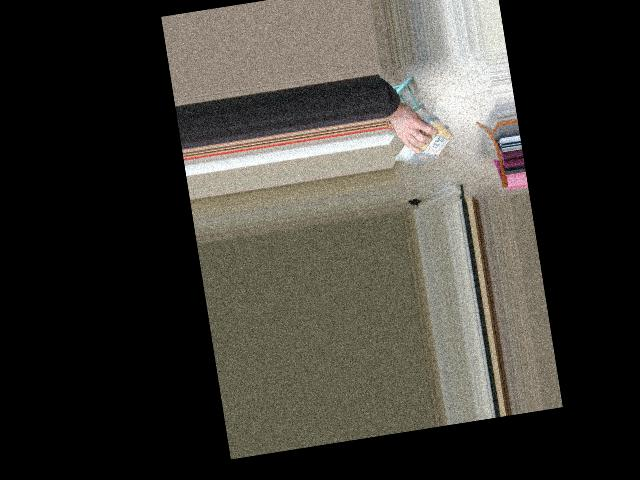cheese: (389, 122, 454, 164)
